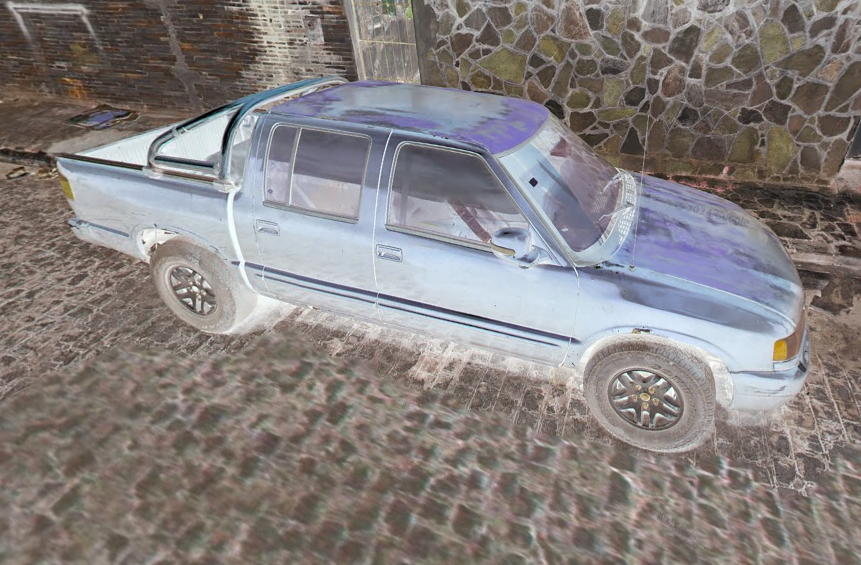car: (48, 68, 811, 456)
